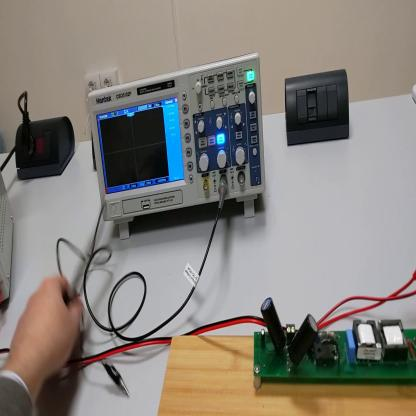hand: (9, 275, 83, 382)
high voltage board: (247, 295, 416, 391)
oscilloscope: (85, 55, 270, 241)
oscilloscope probe tip: (70, 213, 114, 319)
power supply: (2, 173, 19, 307)
socket: (12, 115, 76, 181), (90, 131, 98, 176)
working area: (156, 333, 416, 416)
